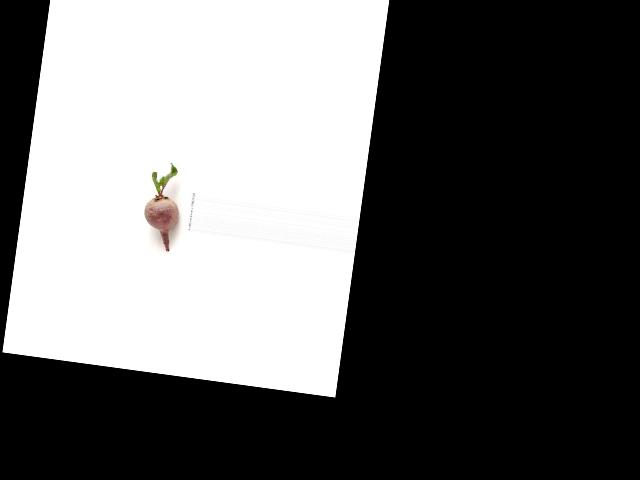beet: (140, 159, 185, 251)
